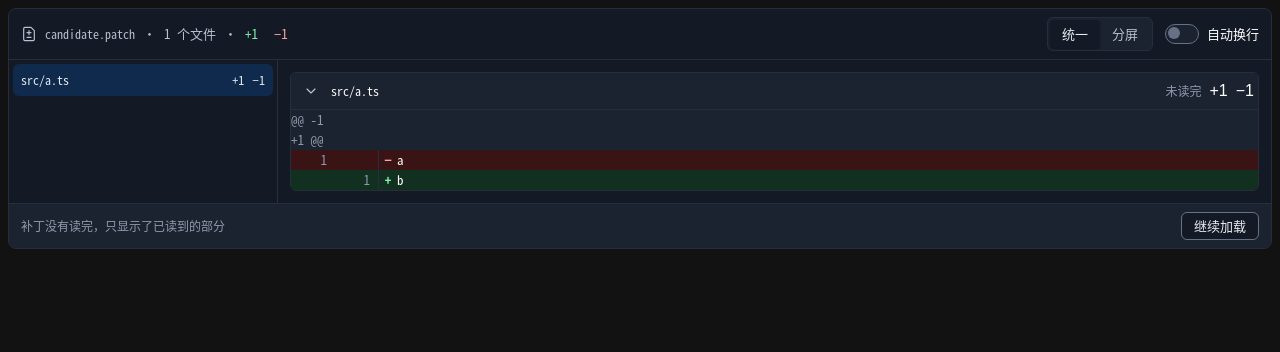
it: 补丁与执行报告 › 补丁没读完：[继续加载] 带游标再读一页，接在后面
Click the button "继续加载": (1220, 226) [1181,212,1259,240]
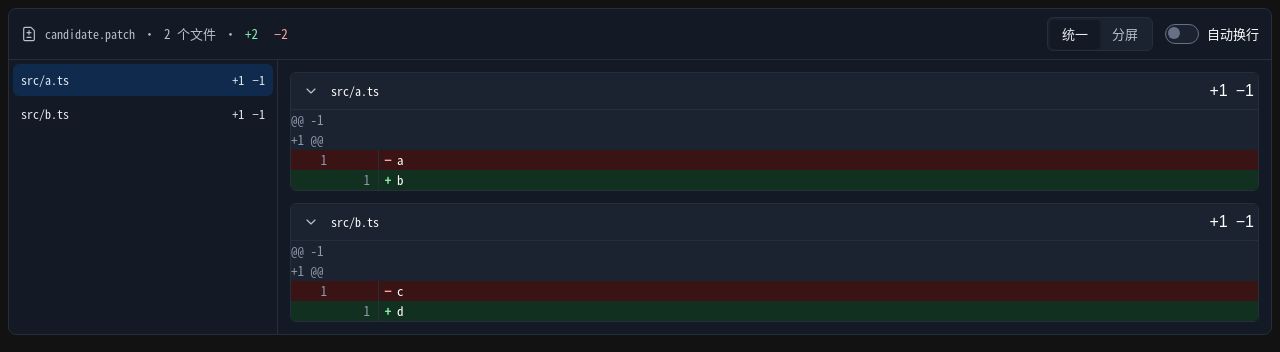
Expected: the element with class "tt-diff" shows "src/b.ts", [13,98,273,130]
